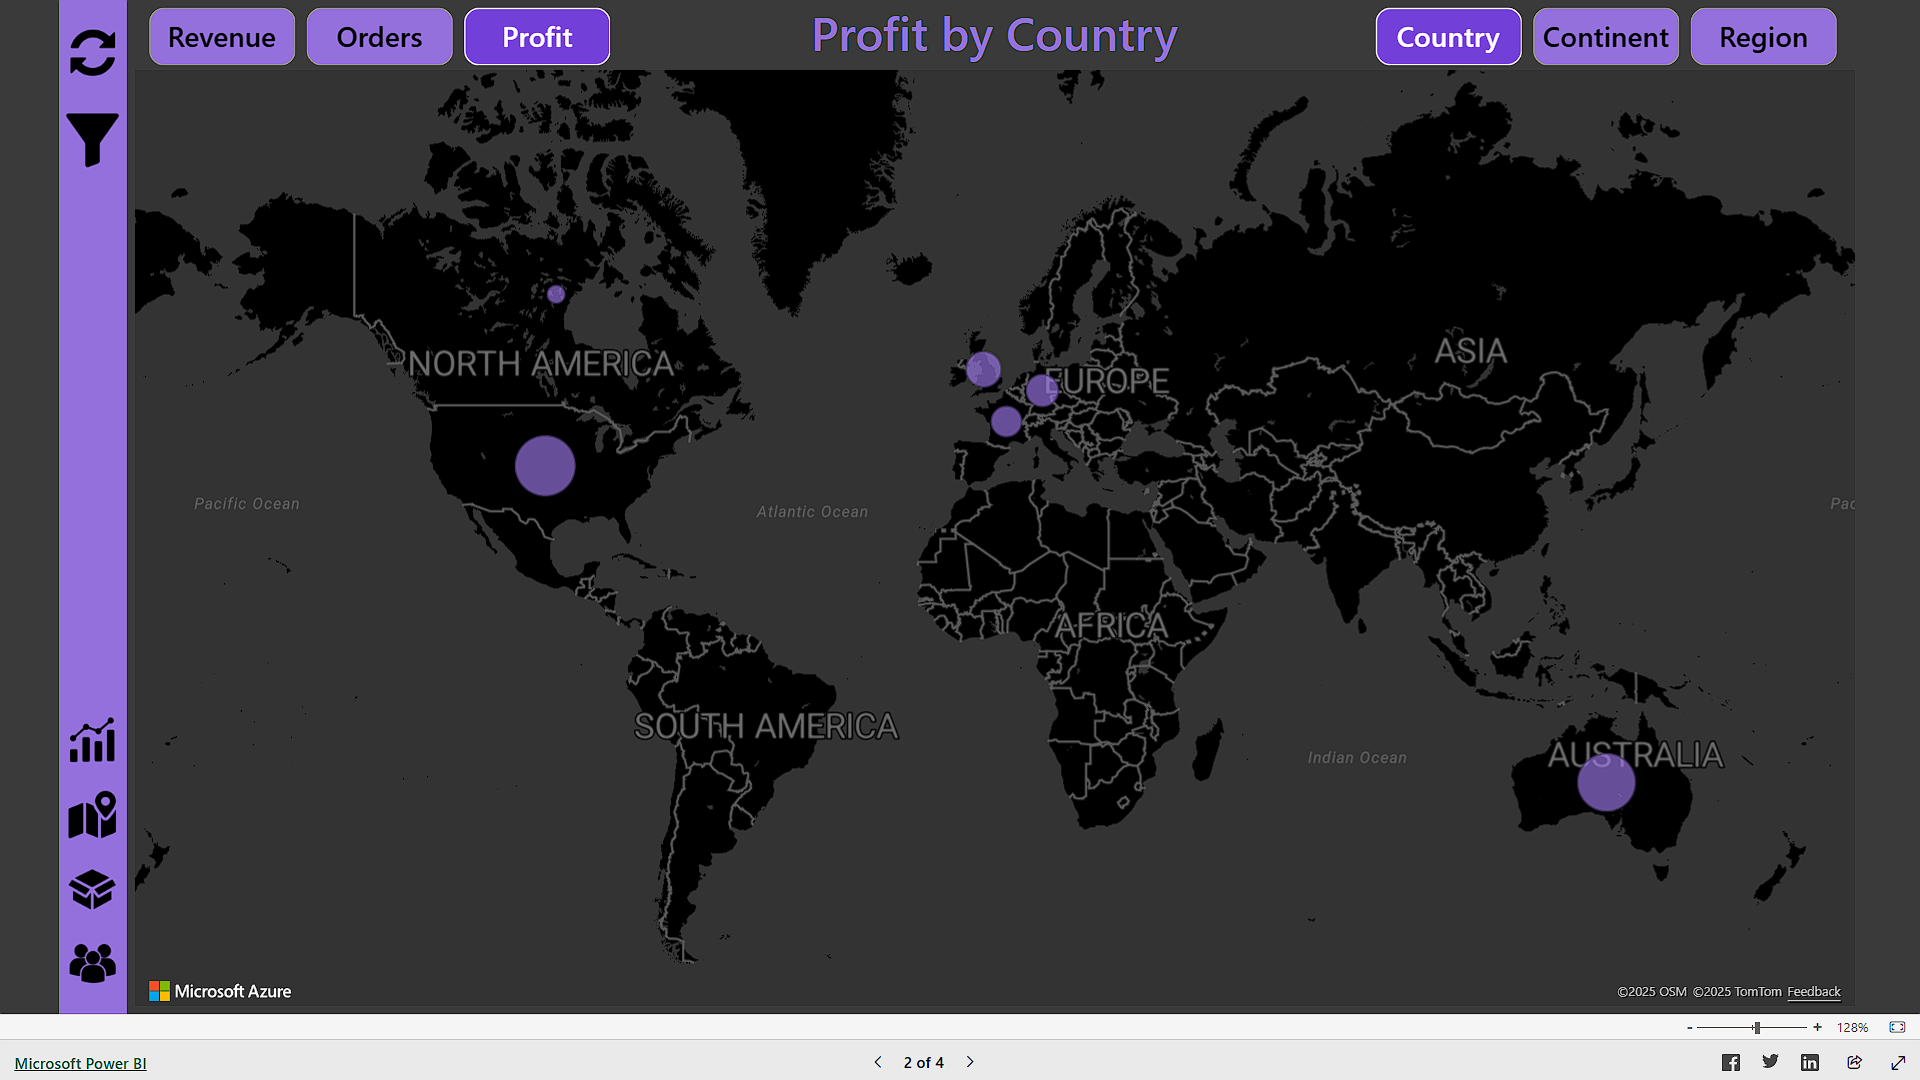

The page's visual inventory and layout, read from the dashboard file:
{"tool":"powerbi","page":{"name":"Map","canvas":[1280,720],"ordinal":1},"visuals":[{"type":"shape","box":[0,0,48.5,719.8],"z":0,"group":"g1"},{"type":"azureMap","fields":{"Category":["Territory Lookup.Region"],"Size":["_Measure Table.Total Orders"]},"box":[48.4,0,1231.6,719.6],"z":1000},{"type":"image","box":[3.5,21,41,32.5],"z":1000,"group":"g1"},{"type":"advancedSlicerVisual","fields":{"Values":["Location.Location"]},"box":[929.3,0,340.7,51.4],"z":2000},{"type":"image","box":[4.8,79.6,38.1,40],"z":2000,"group":"g1"},{"type":"advancedSlicerVisual","fields":{"Values":["Parameter.Parameter"]},"box":[58.5,0,339.7,51.4],"z":3000},{"type":"image","box":[3.4,508.3,40.8,33.3],"z":3000,"group":"g2"},{"type":"group","id":"g1","title":"Group 1","box":[0,0,48.5,719.8],"z":4000},{"type":"image","box":[3.5,561.3,40.9,33.6],"z":4000,"group":"g2"},{"type":"image","box":[3.2,614.5,41.1,33.7],"z":5000,"group":"g2"},{"type":"image","box":[3.7,667.8,40.6,32.6],"z":6000,"group":"g2"},{"type":"group","id":"g2","title":"Group 3","box":[3.2,508.3,41.2,192.2],"z":22001}]}

Visuals, with their boxes on the page's 1280x720 design canvas (x1, y1, x2, y2). These are canvas units, not pixel positions in the 1920x1080 screenshot, which may show the page scaled, cropped or inside an application window:
shape: 0:0:48:720
azureMap - Territory Lookup.Region x _Measure Table.Total Orders: 48:0:1280:720
image: 4:21:44:54
advancedSlicerVisual - Location.Location: 929:0:1270:51
image: 5:80:43:120
advancedSlicerVisual - Parameter.Parameter: 58:0:398:51
image: 3:508:44:542
"Group 1" group: 0:0:48:720
image: 4:561:44:595
image: 3:614:44:648
image: 4:668:44:700
"Group 3" group: 3:508:44:700
